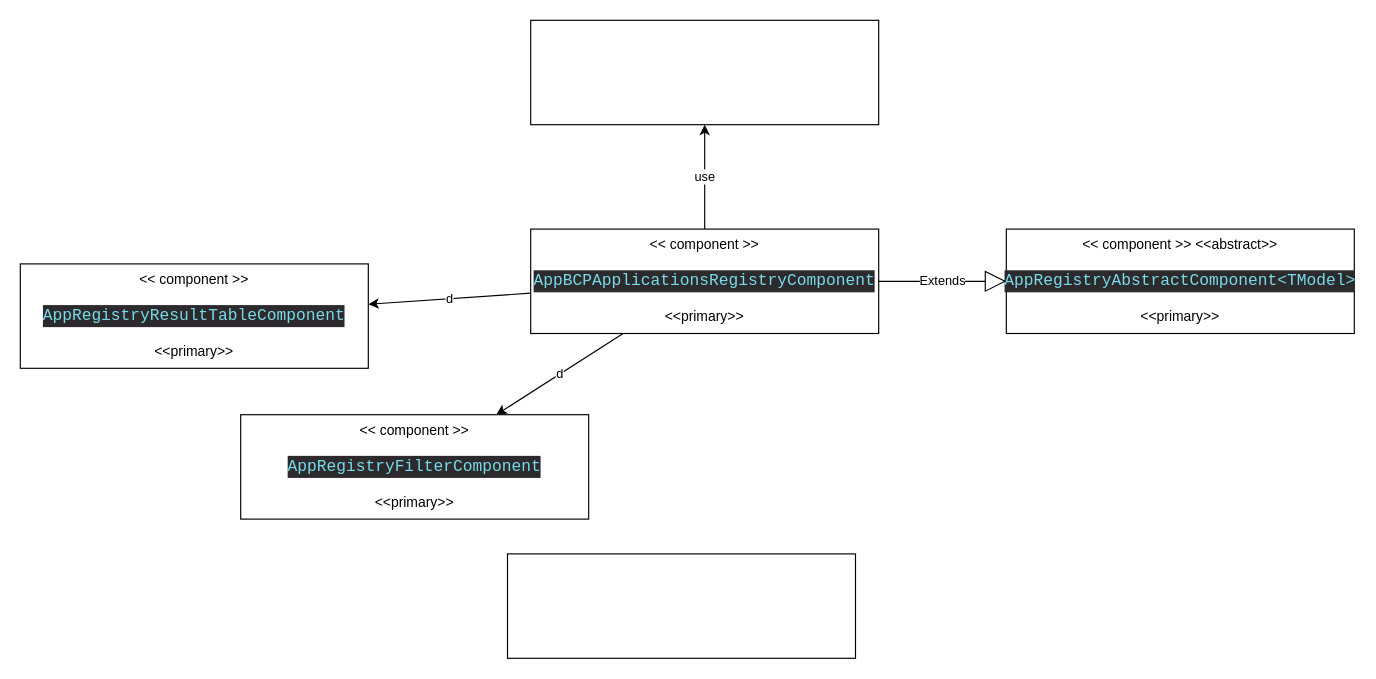
The diagram is 1376 pixels wide and 679 high, and some of its shapes have lost their labels. The shapes that lost their labels are listed below. From the top down, each one's box as (x1, y1, x2, y2) in pixels, then its label:
(530, 19, 879, 125): << template >> registry.component.html <<primary>>
(506, 553, 855, 658): << model >> RegistryFilterInputModel <<primary>>
